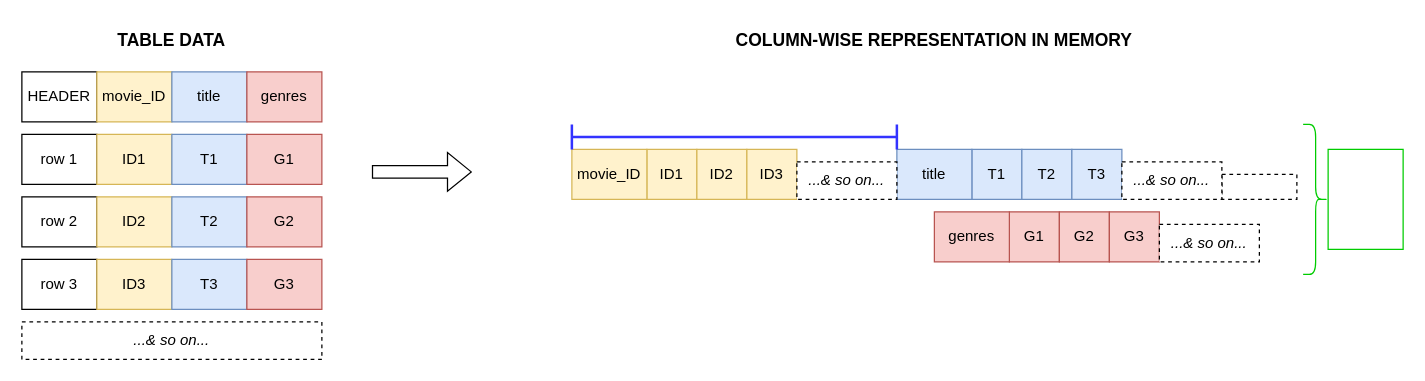
This 1425x381 diagram has some shape labels left out. The shapes that lost their labels are listed below. From the top down, each one's centre as x and y in pixels, then its label:
At (734,136): "All values in the column stored contiguously".
At (1259,186): "...cont'd".
At (1365,198): "In 2 lines to save space here".
